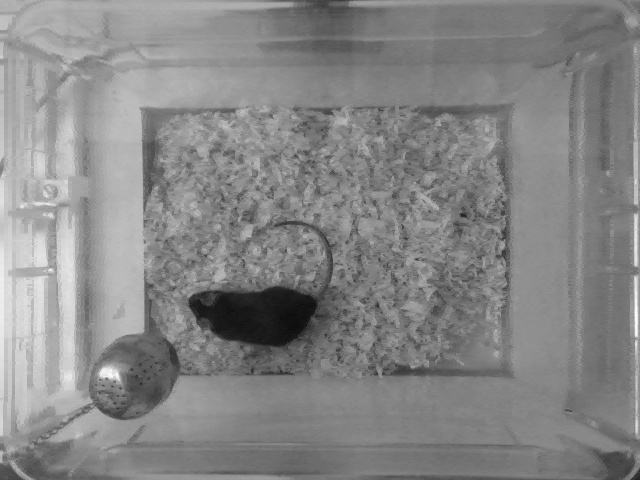mice: (188, 215, 339, 347)
